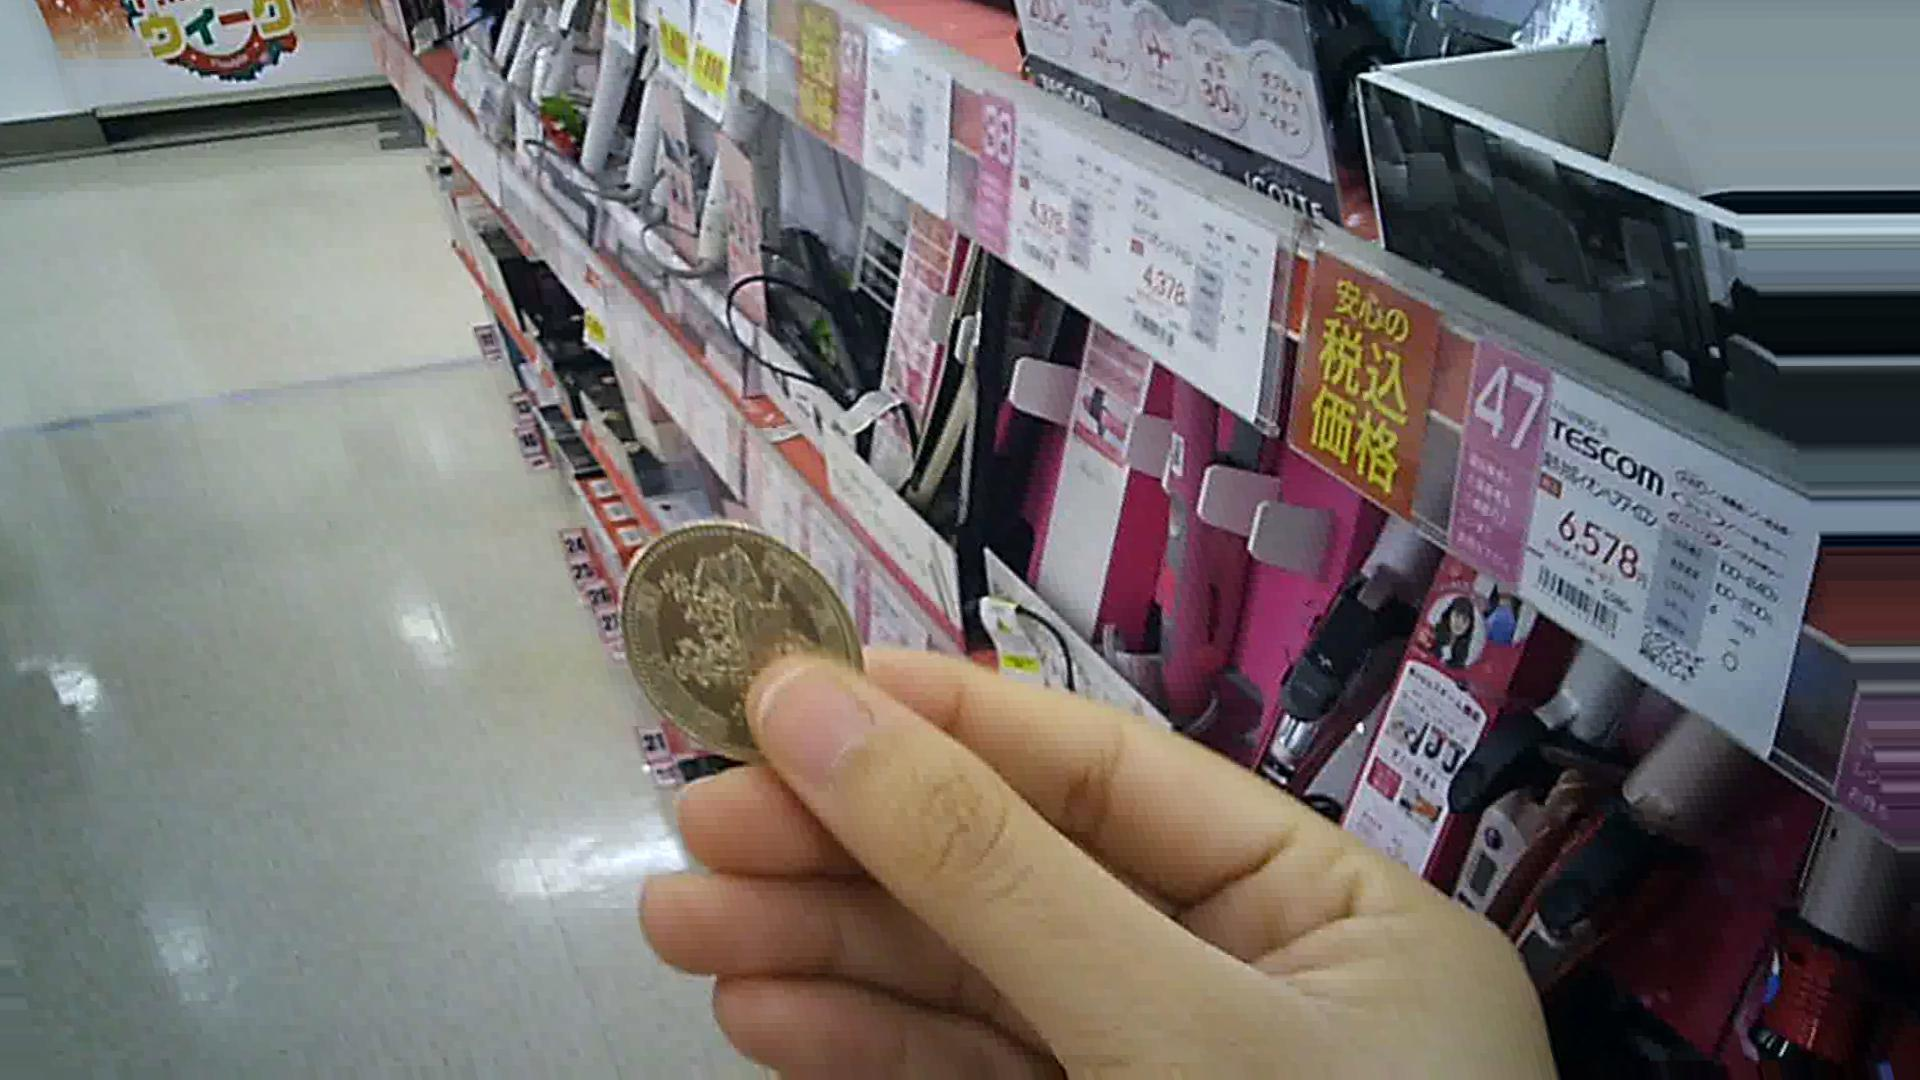500 Yen: (605, 527, 873, 756)
